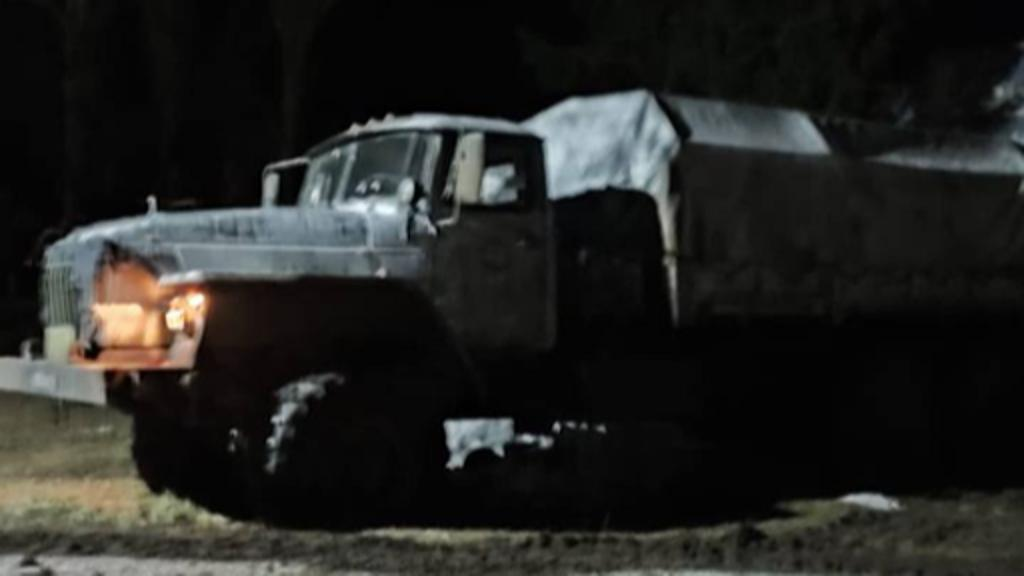TRUCK: (26, 54, 1018, 522)
